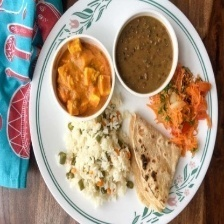roti: (129, 114, 181, 214)
